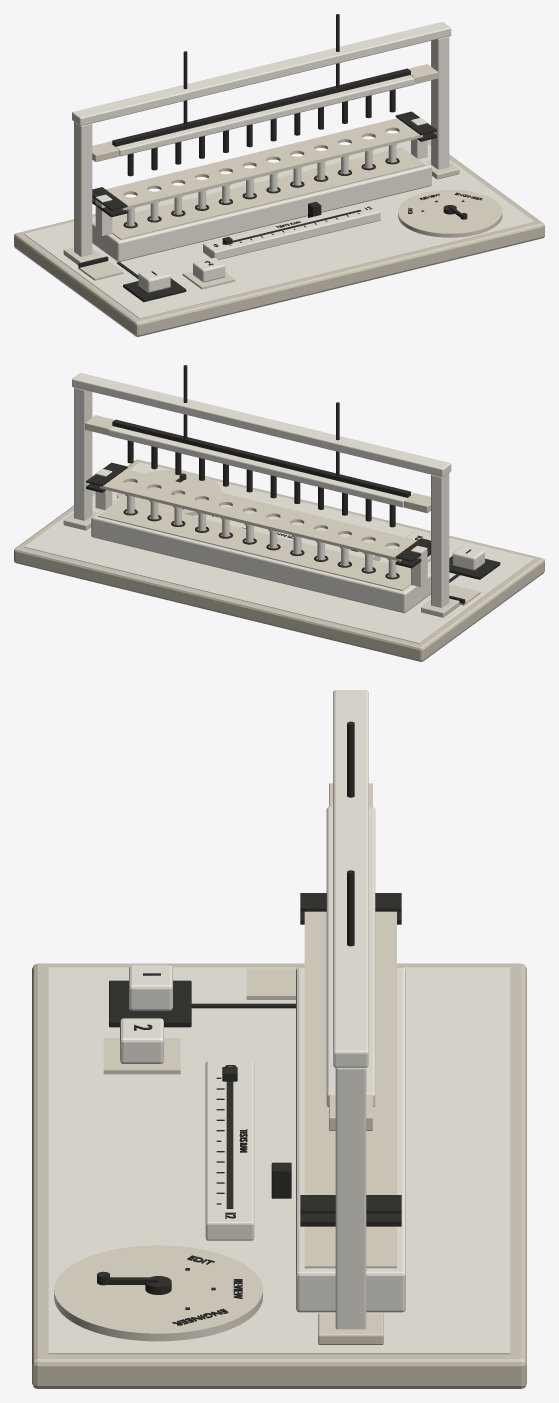
3 views of the same model, one above another, from view 1: azimuth 30°, elevation 25°; view 2: azimuth 150°, elevation 25°; view 3: azimuth 270°, elevation 25° (orthographic). The views are drawn at different scales.
Visible parts, largest first — view 1: Plinth_Top, Plinth, Bed, Selector, Gantry_Beam, Bed_Top, Dial_Base, Head_Beam, Counter_Body, GantryL, GantryR, Head_Rail (+10 smaller); view 2: Plinth_Top, Plinth, Bed, Selector, Gantry_Beam, Bed_Top, Head_Beam, GantryL, GantryR, Head_Rail, Dial_Base, Counter_Body (+9 smaller); view 3: Plinth_Top, Plinth, Dial_Base, Selector, Gantry_Beam, Bed, GantryR, Counter_Body, Head_Beam, Bed_Top, Socket_Plate, Patch_1_Body (+8 smaller).
Part boxes in pixels (x1,y1,x2,y2): Plinth_Top: (24, 140, 534, 318); Plinth: (14, 140, 544, 336); Bed: (92, 147, 431, 261); Selector: (106, 118, 422, 210); Gantry_Beam: (72, 22, 451, 125); Bed_Top: (112, 147, 425, 239); Dial_Base: (398, 189, 502, 237); Head_Beam: (109, 75, 414, 156); Counter_Body: (203, 203, 380, 259); GantryL: (74, 122, 92, 256); GantryR: (431, 36, 449, 169); Head_Rail: (112, 68, 410, 146); Plinth_Top: (24, 462, 534, 643); Plinth: (14, 459, 544, 661); Bed: (91, 498, 430, 613); Selector: (100, 469, 417, 561); Gantry_Beam: (72, 373, 451, 477); Bed_Top: (97, 499, 410, 590); Head_Beam: (108, 426, 414, 507); GantryL: (431, 473, 449, 607); GantryR: (74, 387, 92, 520); Head_Rail: (112, 419, 410, 497); Dial_Base: (117, 470, 221, 515); Counter_Body: (206, 515, 380, 560); Plinth_Top: (48, 967, 510, 1354); Plinth: (32, 963, 526, 1388); Dial_Base: (54, 1245, 262, 1341); Selector: (304, 911, 396, 1194); Gantry_Beam: (333, 690, 368, 1067); Bed: (296, 967, 405, 1312); GantryR: (335, 1067, 366, 1329); Counter_Body: (205, 1061, 254, 1240); Head_Beam: (326, 807, 375, 1106); Bed_Top: (304, 1226, 396, 1268); Socket_Plate: (109, 980, 191, 1027); Patch_1_Body: (129, 965, 172, 1010).
Size of the model in its own units: 8.6 by 3.95 by 4.5.
